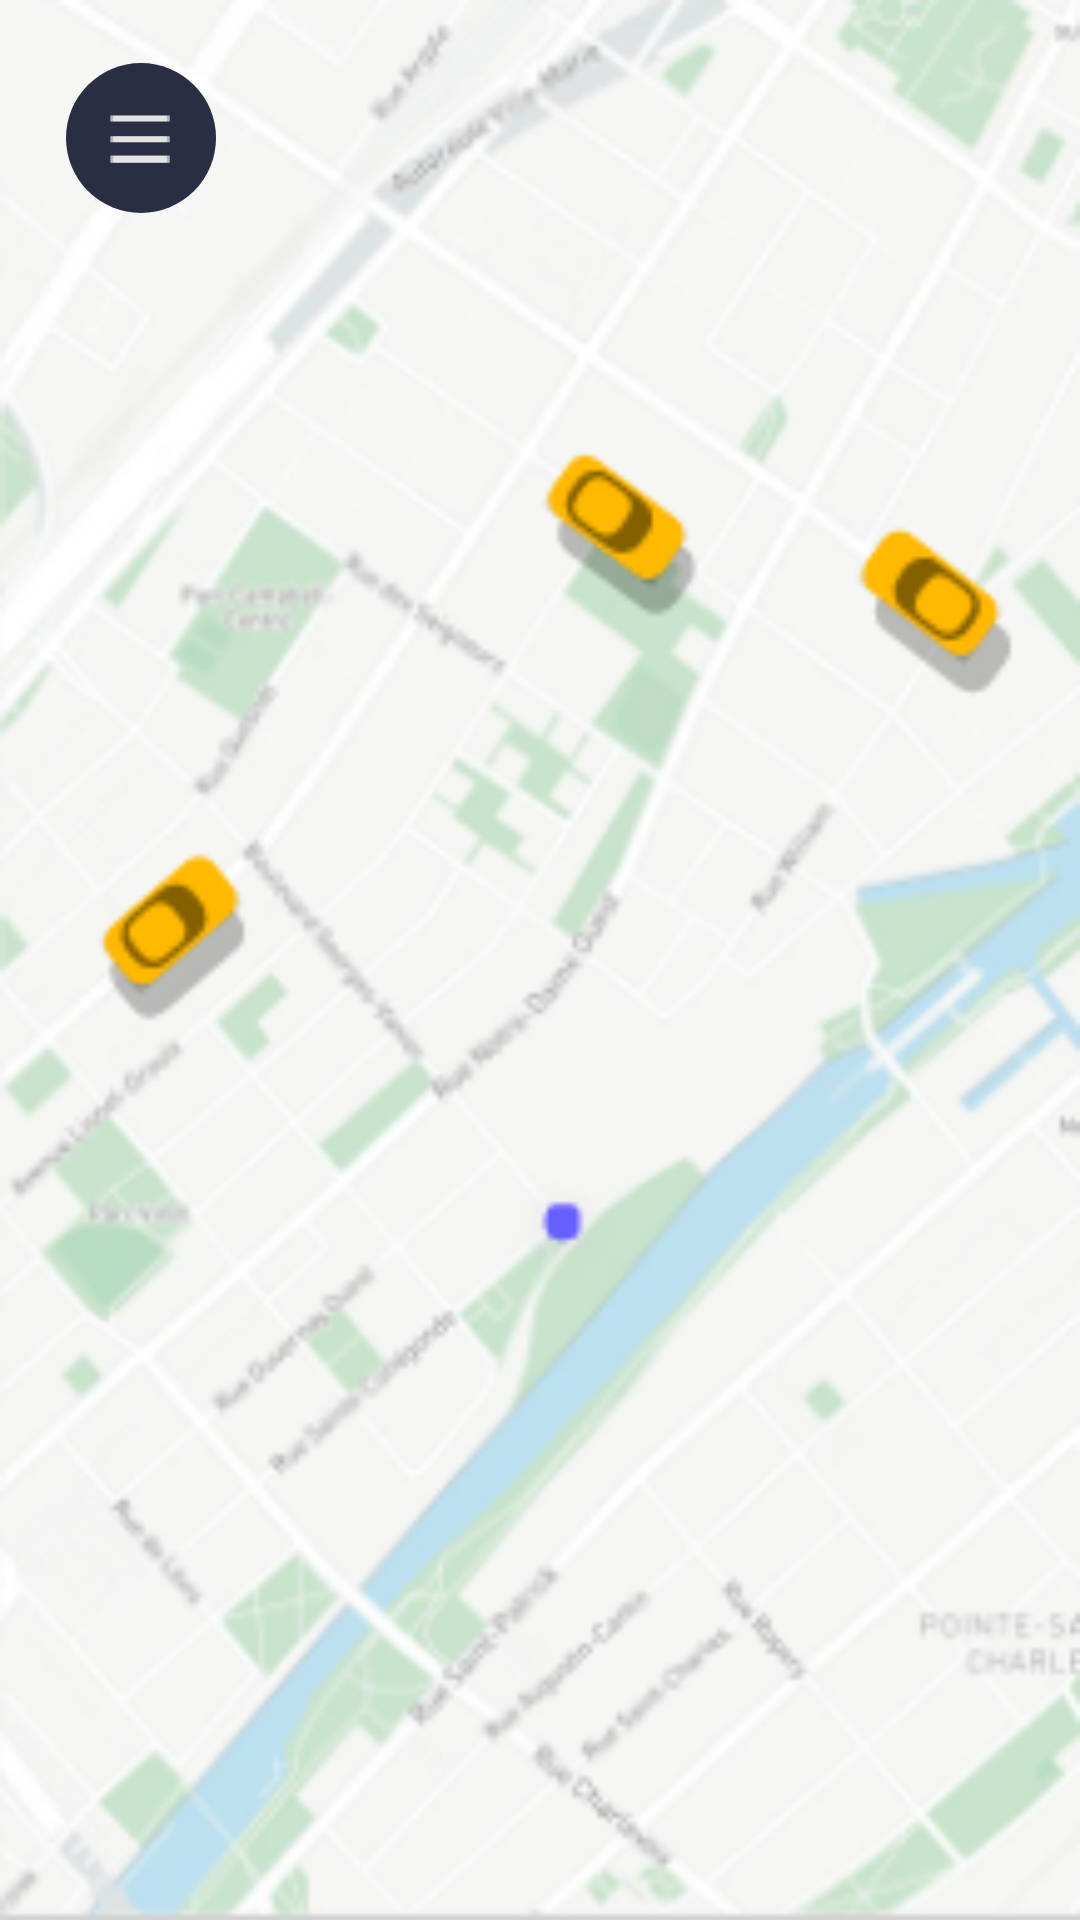

Named icons in this screenshot (1080×1920) and their centers, point (x, y):
lines: point (140, 139)
